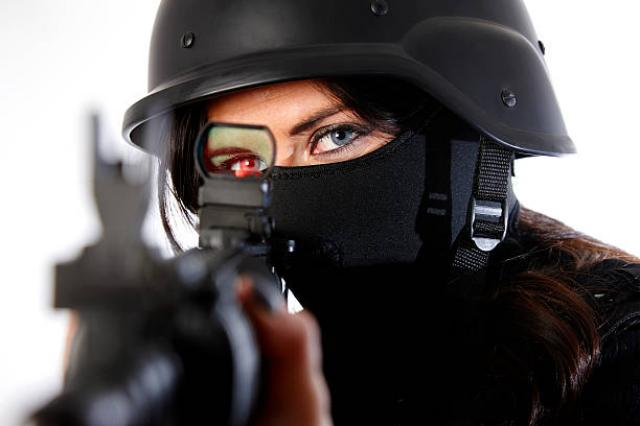other: (139, 3, 639, 423)
